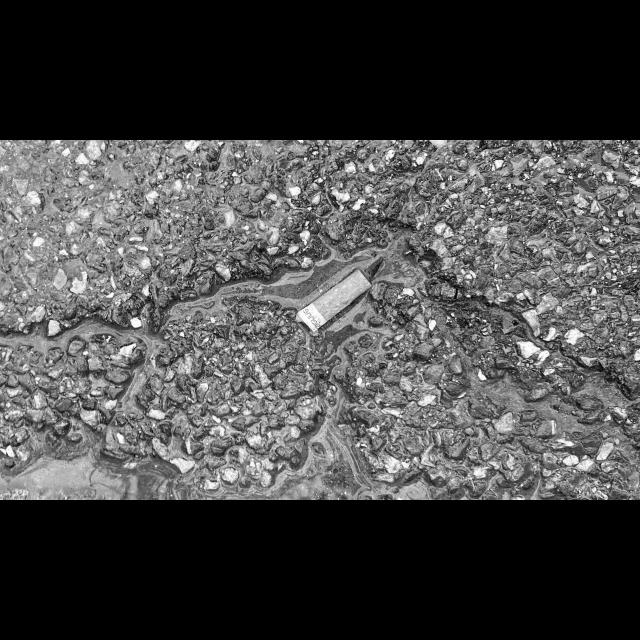cigarette: (295, 268, 372, 334)
